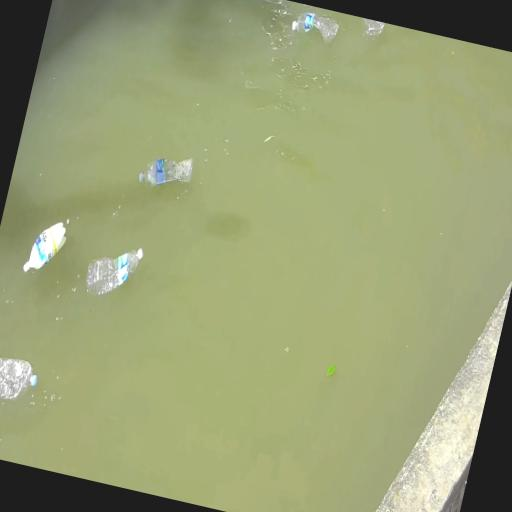plastic: (86, 249, 143, 295), (23, 223, 66, 271), (138, 156, 193, 187), (0, 357, 37, 400), (292, 13, 339, 43), (364, 18, 385, 35)
